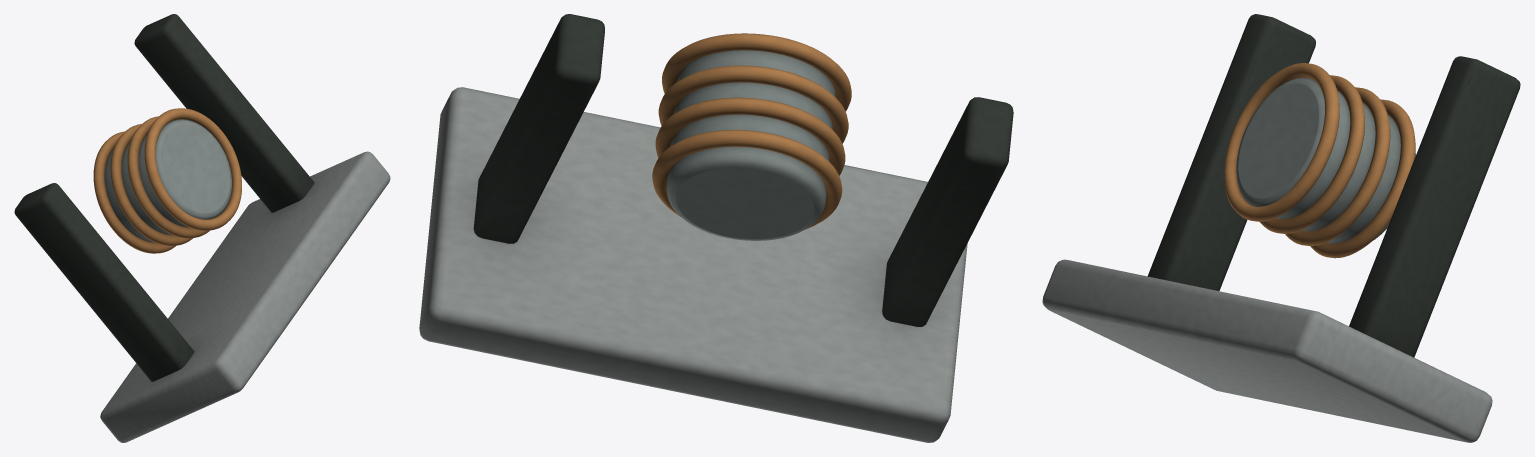
3 views of the same model, side by side, from view 1: azimuth 30°, elevation 25°; view 2: azimuth 150°, elevation 25°; view 3: azimuth 270°, elevation 25° (orthographic). The views are drawn at different scales.
Parts seen in each view (by area): view 1: Bolted mechanical base; view 2: Bolted mechanical base; view 3: Bolted mechanical base.
Part boxes in pixels (<box>): Bolted mechanical base: <box>14,14,390,442</box>; Bolted mechanical base: <box>419,14,1013,442</box>; Bolted mechanical base: <box>1042,14,1520,442</box>.
Size of the model in its own units: 1.38 by 1.12 by 1.14.
1 material, 1 textured.
